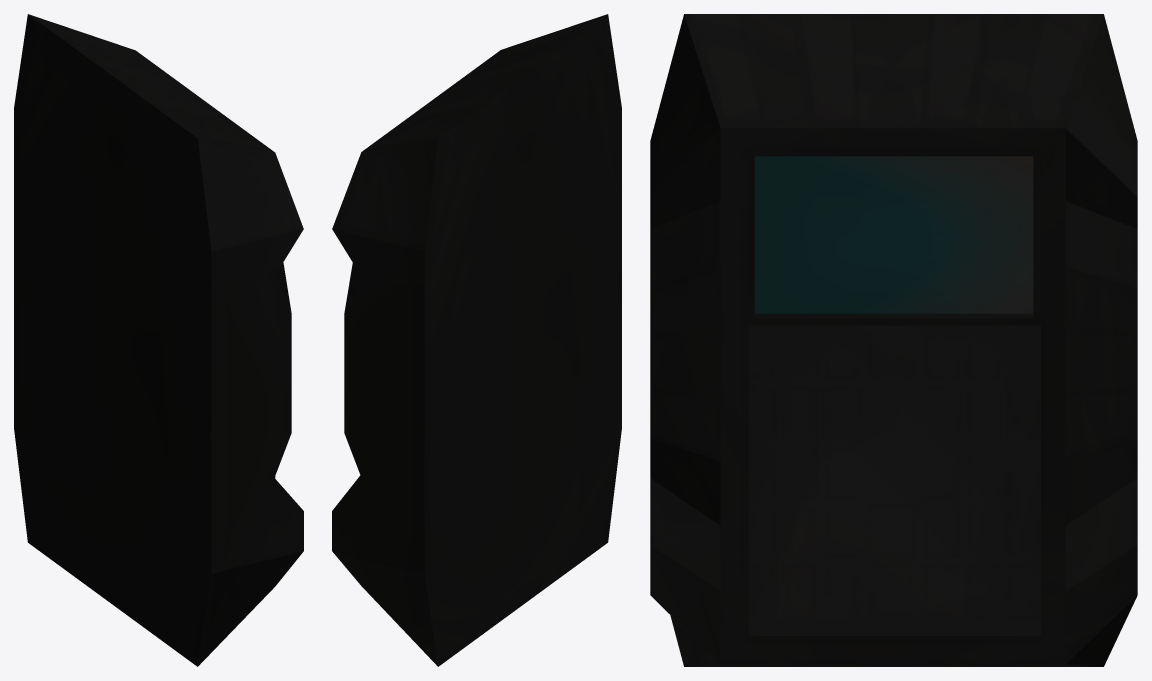
File: panel_computer.fbx
3 renders of one model, left to right at view 1: azimuth 30°, elevation 25°; view 2: azimuth 150°, elevation 25°; view 3: azimuth 270°, elevation 25°, orthographic. The views are drawn at different scales.
Visible parts, largest first — view 1: Cube.486; view 2: Cube.486; view 3: Cube.486.
Part boxes in pixels (<box>): Cube.486: <box>14,14,303,666</box>; Cube.486: <box>332,14,621,666</box>; Cube.486: <box>650,14,1137,666</box>.
Bounding box in the file's own units: 7.27 × 39.76 × 26.91.
